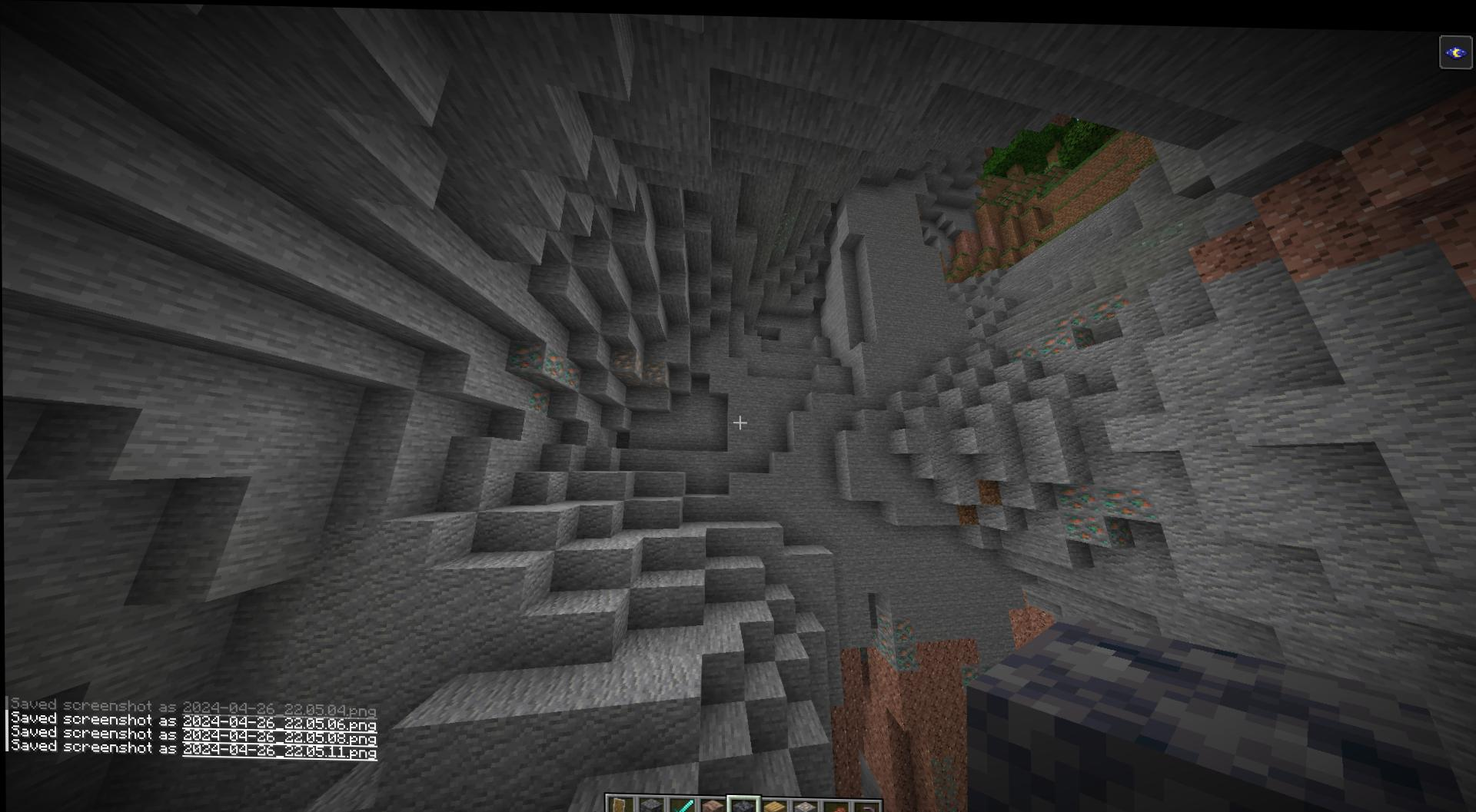iron ore: (610, 345, 671, 388)
